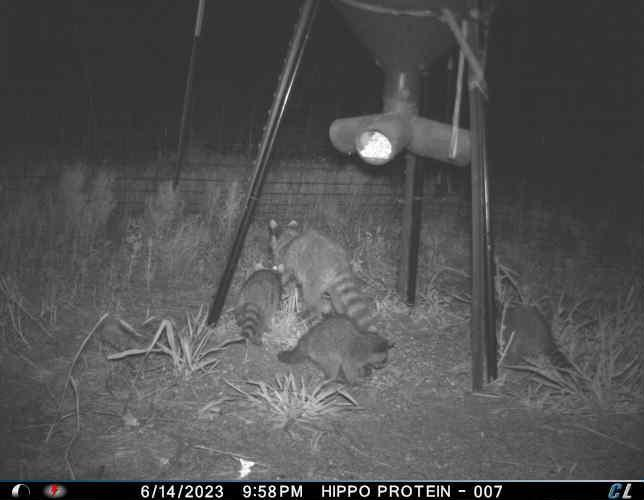Raccoon: (267, 215, 391, 334), (276, 312, 397, 391), (496, 297, 581, 379), (234, 268, 282, 349)
